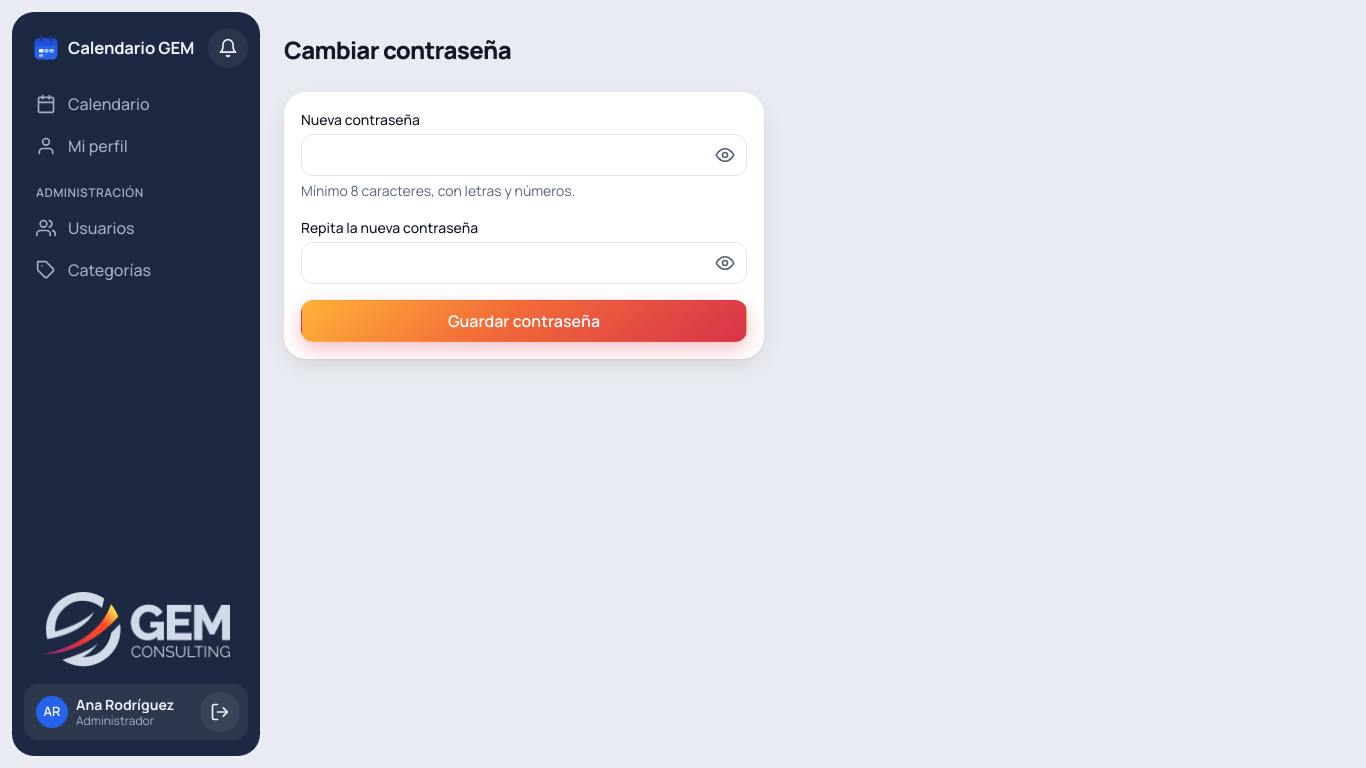
Test: ChangePasswordPage › el cambio voluntario también vuelve al inicio
The width and height of the screenshot is (1366, 768).
Type "Nueva12345" into the password field labelled "Nueva contraseña".
click(524, 155); type("Nueva12345")  # box [301, 134, 747, 176]
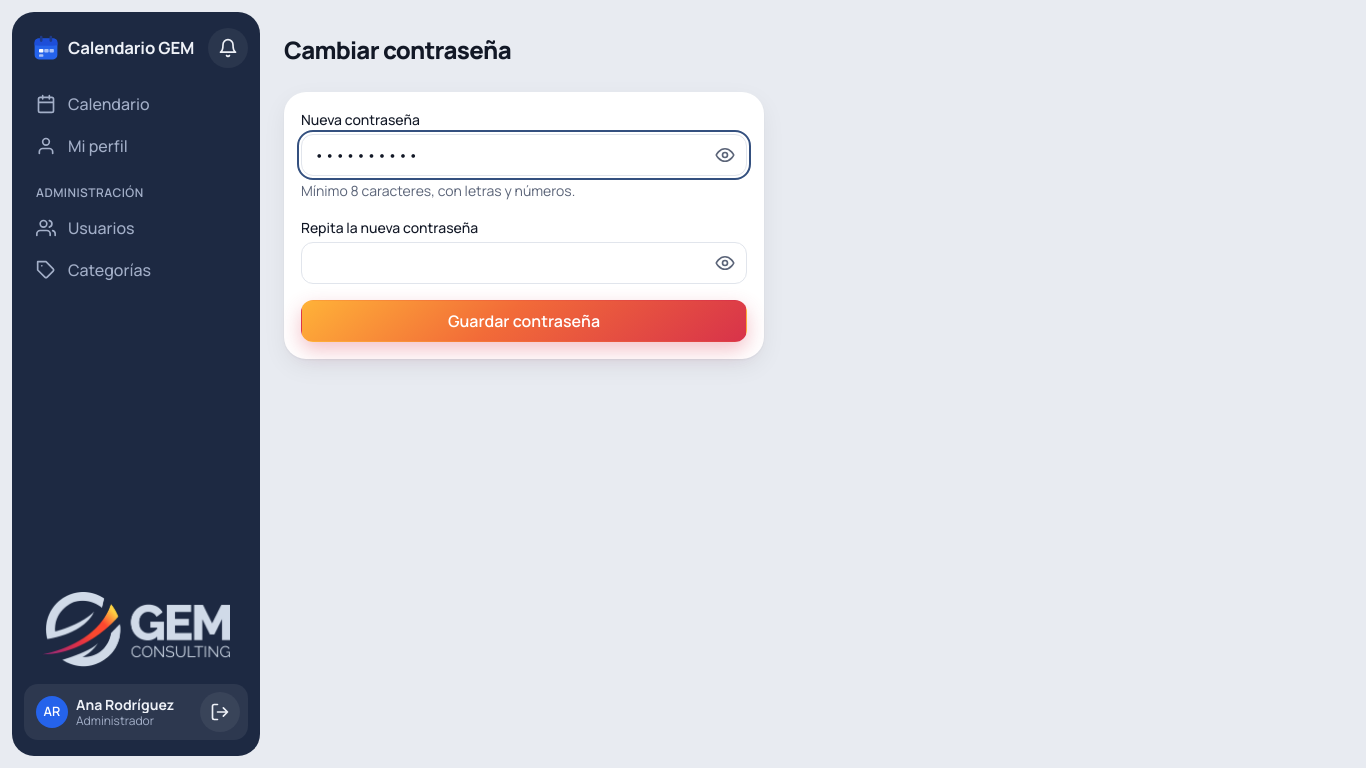
Type "Nueva12345" into the password field labelled "Repita la nueva contraseña".
click(524, 263); type("Nueva12345")  # box [301, 242, 747, 284]
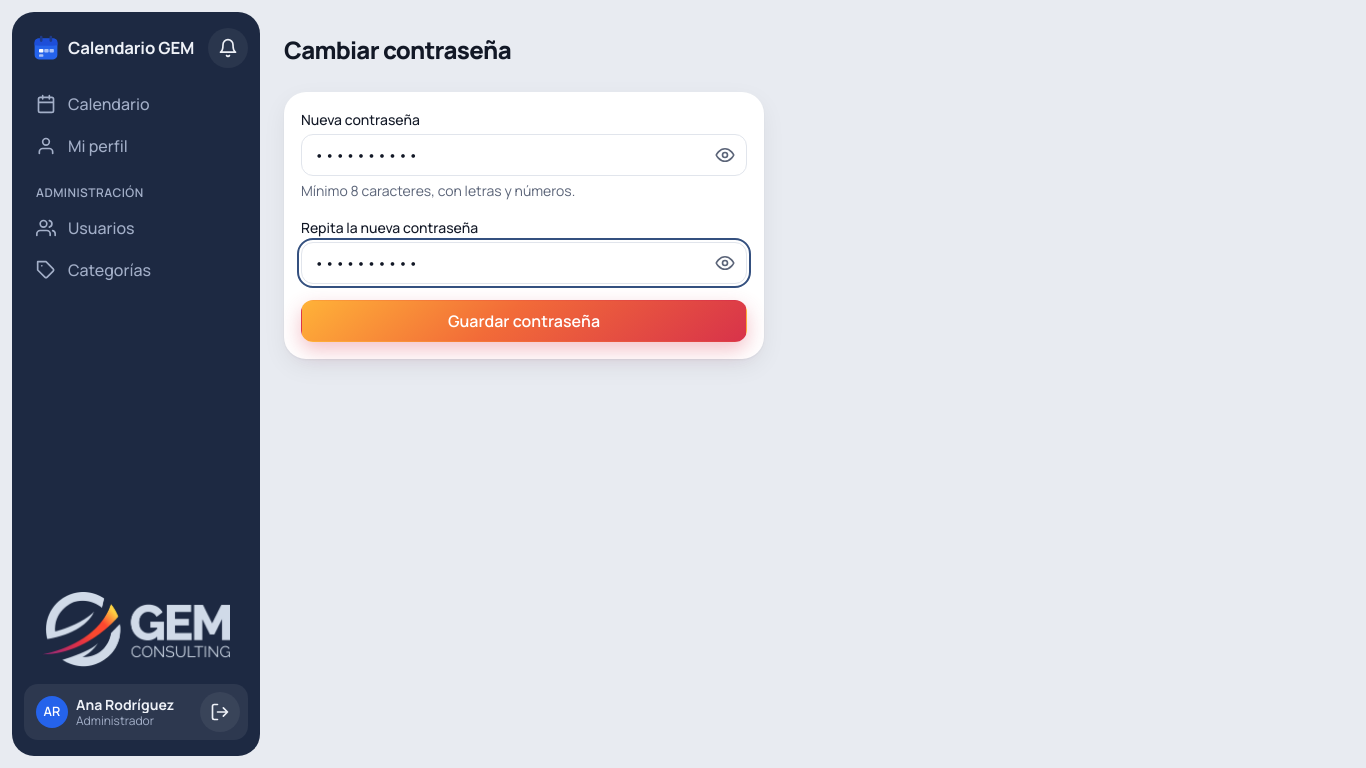
Click the button "Guardar contraseña".
click(524, 321)  # box [301, 300, 747, 342]
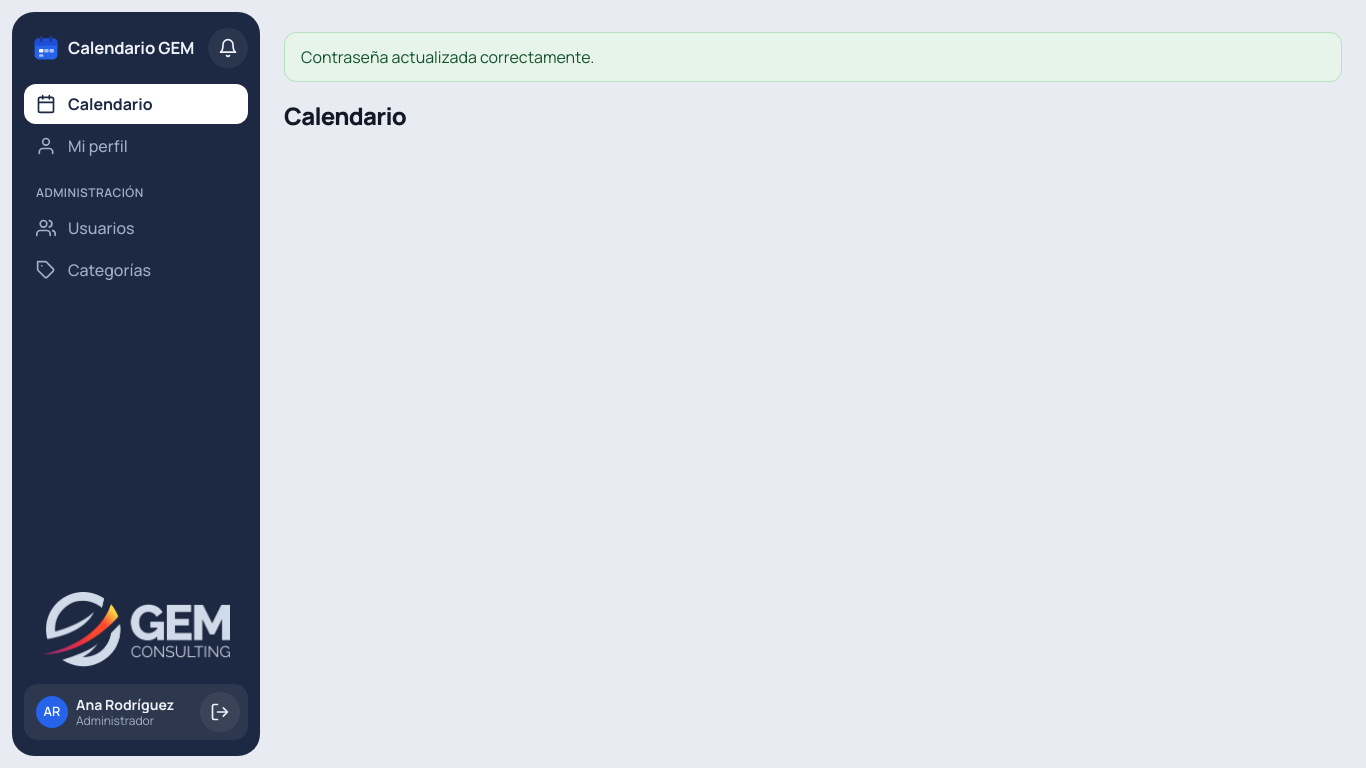
Expected: the heading "Calendario" is shown, [284, 99, 406, 132]
